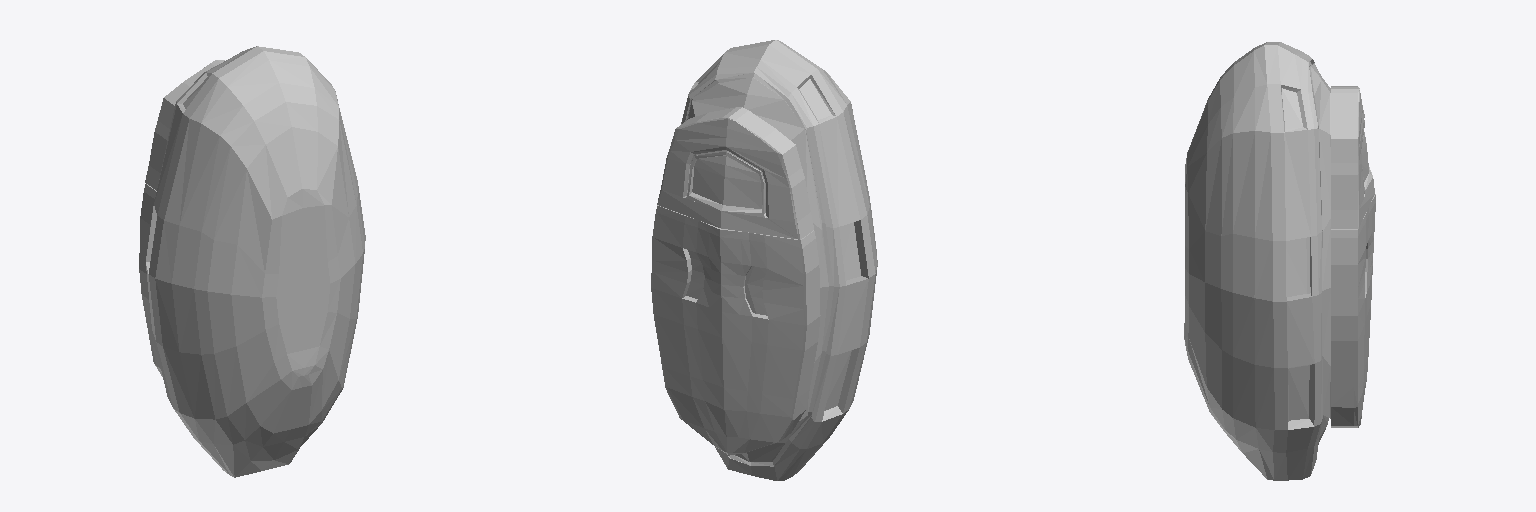
File: AlienPod.obj
3 renders of one model, left to right at view 1: azimuth 30°, elevation 25°; view 2: azimuth 150°, elevation 25°; view 3: azimuth 270°, elevation 25°, orthographic.
Parts seen in each view (by area): view 1: pCube1 group1, group1 pCube3, group1 pCube2; view 2: group1 pCube2, pCube1 group1, group1 pCube3; view 3: pCube1 group1, group1 pCube2, group1 pCube3.
Boxes of the visible parts, x1,y1,x2,y2 form: pCube1 group1: [146, 46, 365, 477]; group1 pCube3: [145, 60, 224, 190]; group1 pCube2: [139, 184, 162, 376]; group1 pCube2: [651, 205, 820, 455]; pCube1 group1: [681, 40, 877, 480]; group1 pCube3: [657, 107, 813, 239]; pCube1 group1: [1184, 42, 1330, 480]; group1 pCube2: [1331, 194, 1375, 427]; group1 pCube3: [1331, 86, 1374, 228].
Bounding box in the file's own units: 8.86 × 17.12 × 7.07.